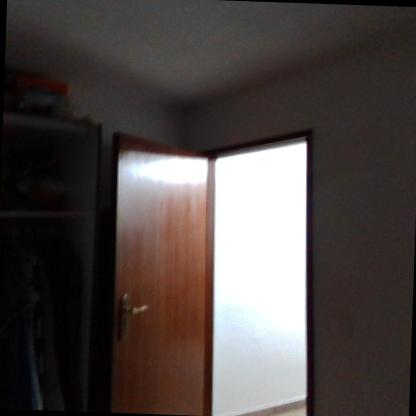open: (92, 122, 341, 416)
